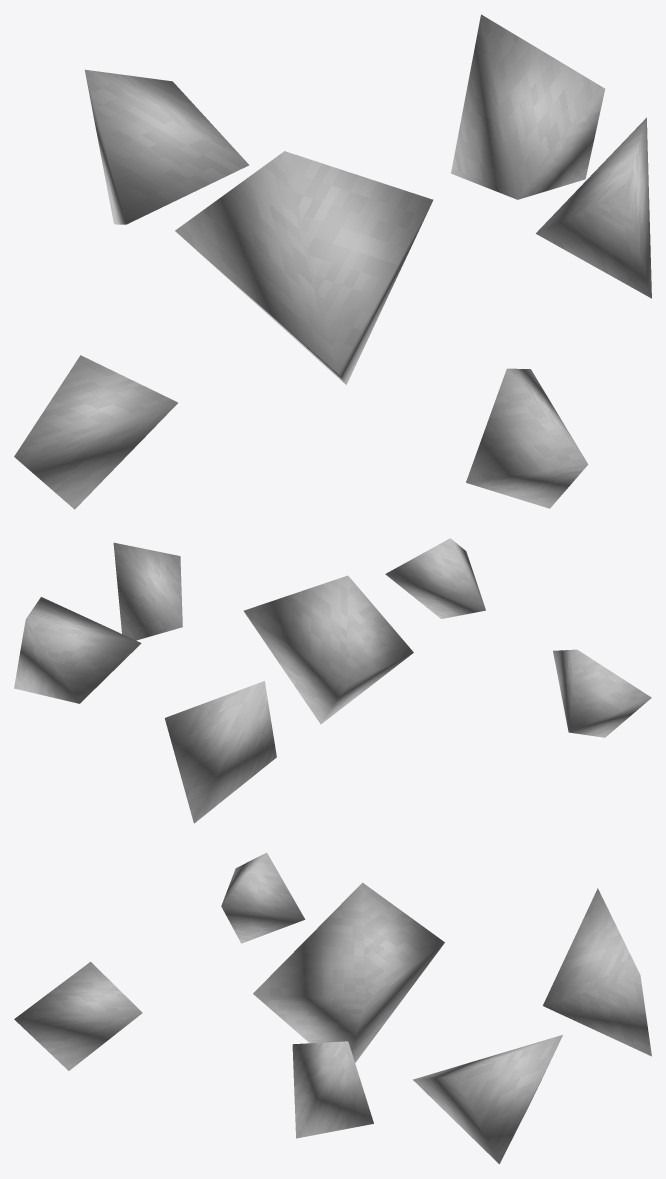
The model's file is pebbles.obj.
3 renders of one model, top to bottom at view 1: azimuth 30°, elevation 25°; view 2: azimuth 150°, elevation 25°; view 3: azimuth 270°, elevation 25°, orthographic. The views are drawn at different scales.
Parts seen in each view (by area): view 1: Duplicate01, Duplicate02, Sphere07, Duplicate05, Duplicate03, Duplicate04; view 2: Duplicate01, Sphere07, Duplicate02, Duplicate03, Duplicate05, Duplicate04; view 3: Duplicate01, Sphere07, Duplicate02, Duplicate04, Duplicate03, Duplicate05.
Part boxes in pixels (left/top/right/bottom): Duplicate01: left=175, top=151, right=433, bottom=384; Duplicate02: left=451, top=14, right=605, bottom=199; Sphere07: left=84, top=69, right=249, bottom=224; Duplicate05: left=14, top=355, right=177, bottom=509; Duplicate03: left=536, top=117, right=651, bottom=298; Duplicate04: left=466, top=368, right=588, bottom=508; Duplicate01: left=243, top=575, right=413, bottom=724; Sphere07: left=164, top=681, right=276, bottom=823; Duplicate02: left=14, top=597, right=141, bottom=703; Duplicate03: left=113, top=542, right=182, bottom=640; Duplicate05: left=553, top=649, right=651, bottom=737; Duplicate04: left=385, top=538, right=485, bottom=618; Duplicate01: left=253, top=882, right=444, bottom=1062; Sphere07: left=543, top=888, right=651, bottom=1056; Duplicate02: left=413, top=1035, right=562, bottom=1164; Duplicate04: left=14, top=961, right=142, bottom=1070; Duplicate03: left=292, top=1041, right=373, bottom=1138; Duplicate05: left=221, top=852, right=305, bottom=943.
Size of the model in its own units: 30.05 by 9.11 by 30.19.
